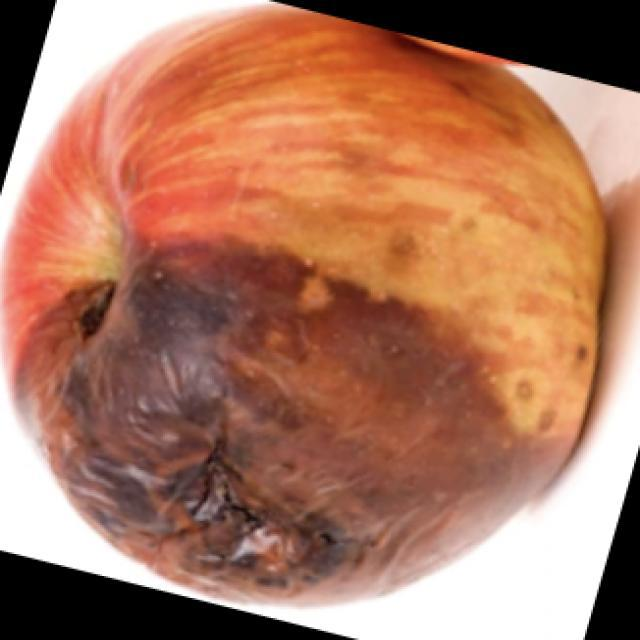Rotten: (33, 0, 601, 606)
